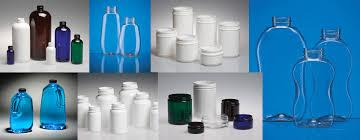Container for household chemicals: (6, 3, 360, 140)
